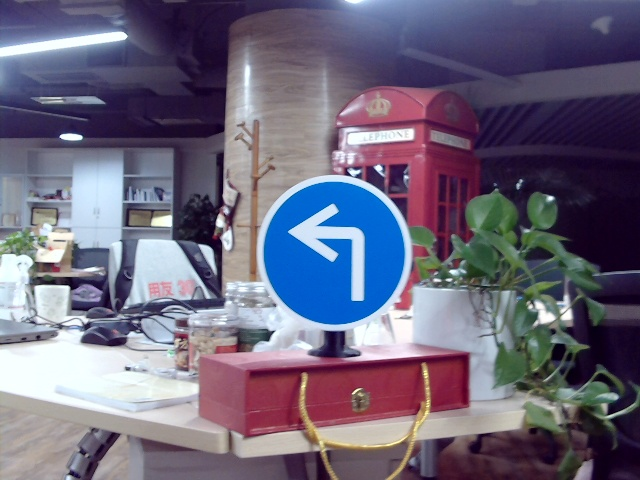turn_left: (286, 199, 376, 302)
